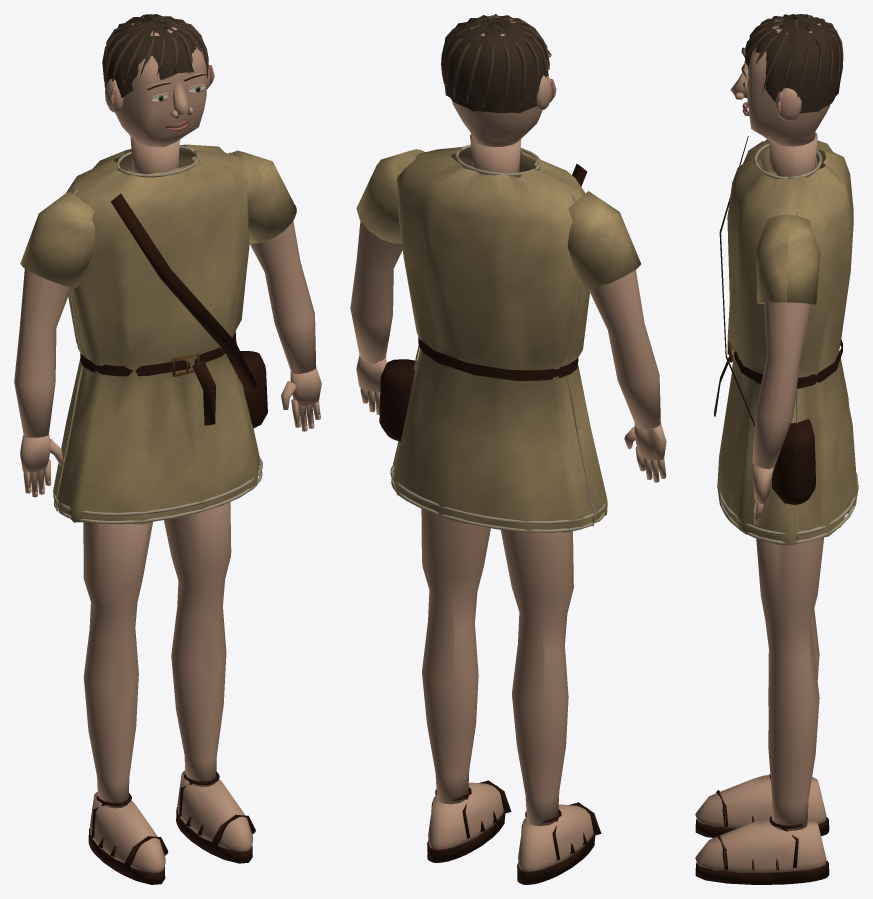
File: civilian_youth_lod1.glb
The picture shows the model from 3 angles, left to right: view 1: azimuth 30°, elevation 25°; view 2: azimuth 150°, elevation 25°; view 3: azimuth 270°, elevation 25°; orthographic projection. The views are drawn at different scales.
Visible parts, largest first — view 1: civilian_youth_lod1_00, civilian_youth_lod1_01, civilian_youth_lod1_02; view 2: civilian_youth_lod1_01, civilian_youth_lod1_00, civilian_youth_lod1_02; view 3: civilian_youth_lod1_00, civilian_youth_lod1_01, civilian_youth_lod1_02.
Part boxes in pixels (bbox=[...]): civilian_youth_lod1_00: bbox=[14, 14, 321, 872]; civilian_youth_lod1_01: bbox=[20, 144, 296, 524]; civilian_youth_lod1_02: bbox=[80, 193, 267, 884]; civilian_youth_lod1_01: bbox=[356, 146, 640, 532]; civilian_youth_lod1_00: bbox=[350, 14, 666, 872]; civilian_youth_lod1_02: bbox=[379, 163, 601, 884]; civilian_youth_lod1_00: bbox=[695, 14, 858, 873]; civilian_youth_lod1_01: bbox=[717, 139, 857, 545]; civilian_youth_lod1_02: bbox=[695, 136, 842, 884].
Size of the model in its own units: 0.584 by 1.52 by 0.2698.
Materials: 4 (3 with a texture image).
